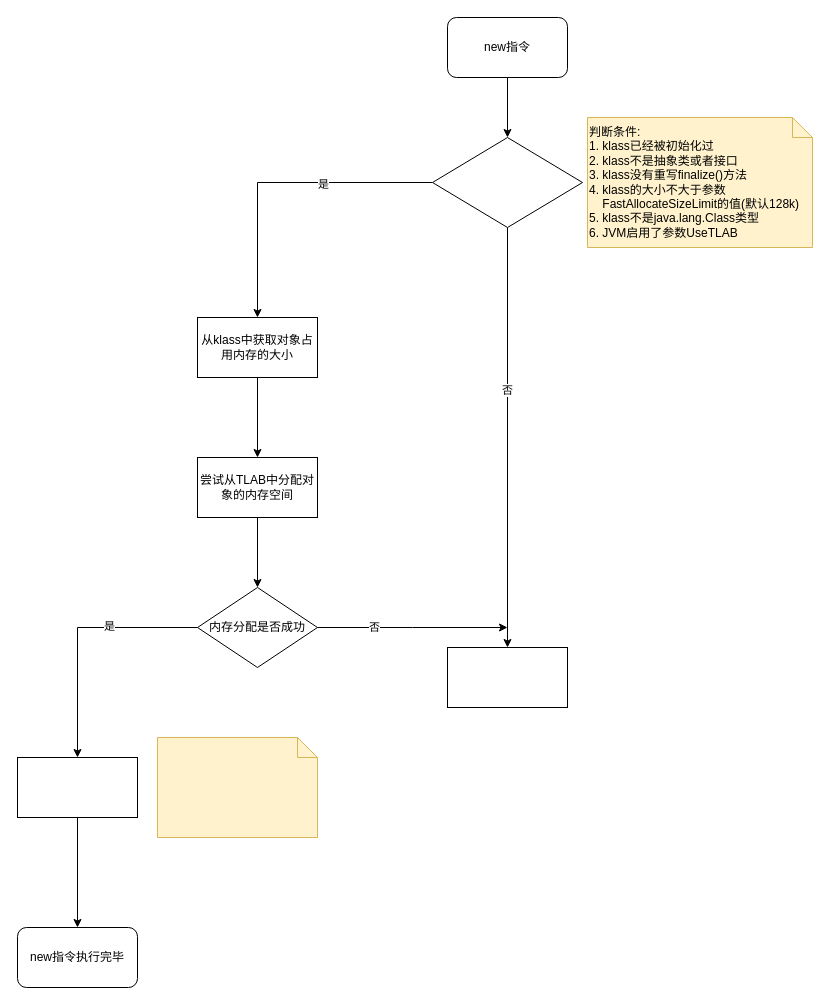
Image size: 830x1005. Some labels were removed from this diagram. The centre of each missing label's shape, as x and y in pixels:
"1. 把分配的内存空间用0填充 2. 设置对象头, 把元数据指针 指向这个klass" goes at point (237, 787).
"初始化这块内存空间" goes at point (77, 787).
"是否可以 从TLAB中分配 内存空间" goes at point (507, 182).
